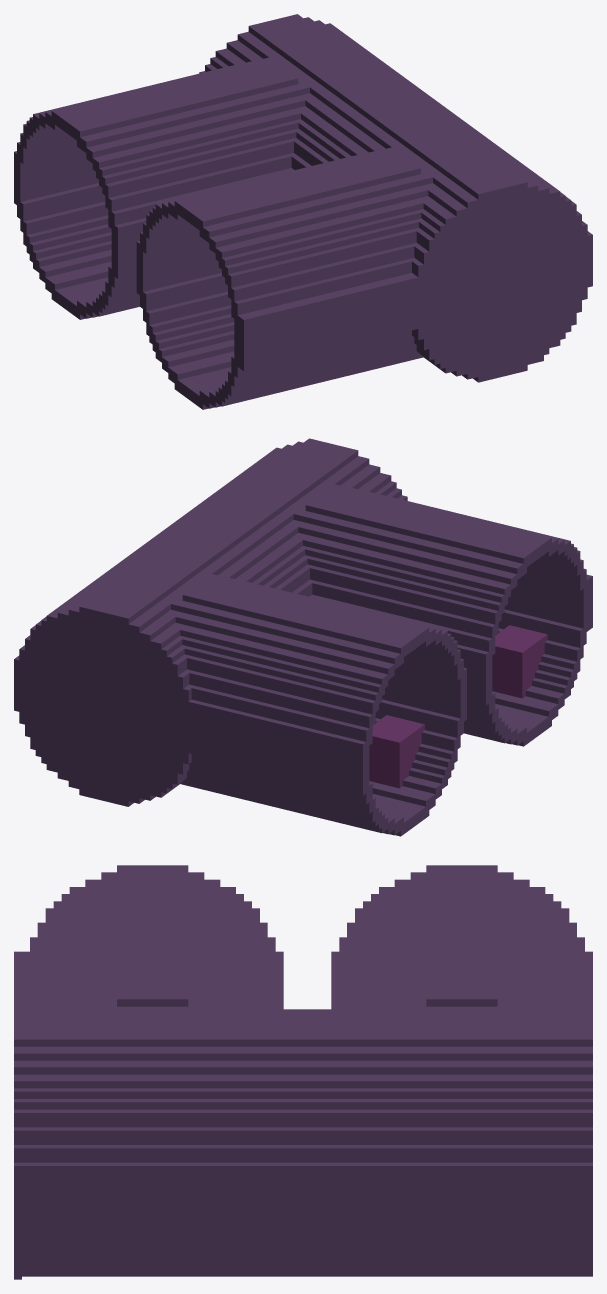
The model's file is U-TurnTunnel.dae.
The picture shows the model from 3 angles, top to bottom: view 1: azimuth 30°, elevation 25°; view 2: azimuth 150°, elevation 25°; view 3: azimuth 270°, elevation 25°; orthographic projection. The views are drawn at different scales.
Parts seen in each view (by area): view 1: U-TurnTunnel; view 2: U-TurnTunnel; view 3: U-TurnTunnel.
Part boxes in pixels (<box>): U-TurnTunnel: <box>14,14,592,409</box>; U-TurnTunnel: <box>14,438,592,836</box>; U-TurnTunnel: <box>14,865,592,1279</box>.
Size of the model in its own units: 6.4 by 3.3 by 7.3.
Materials: 1 (1 with a texture image).
